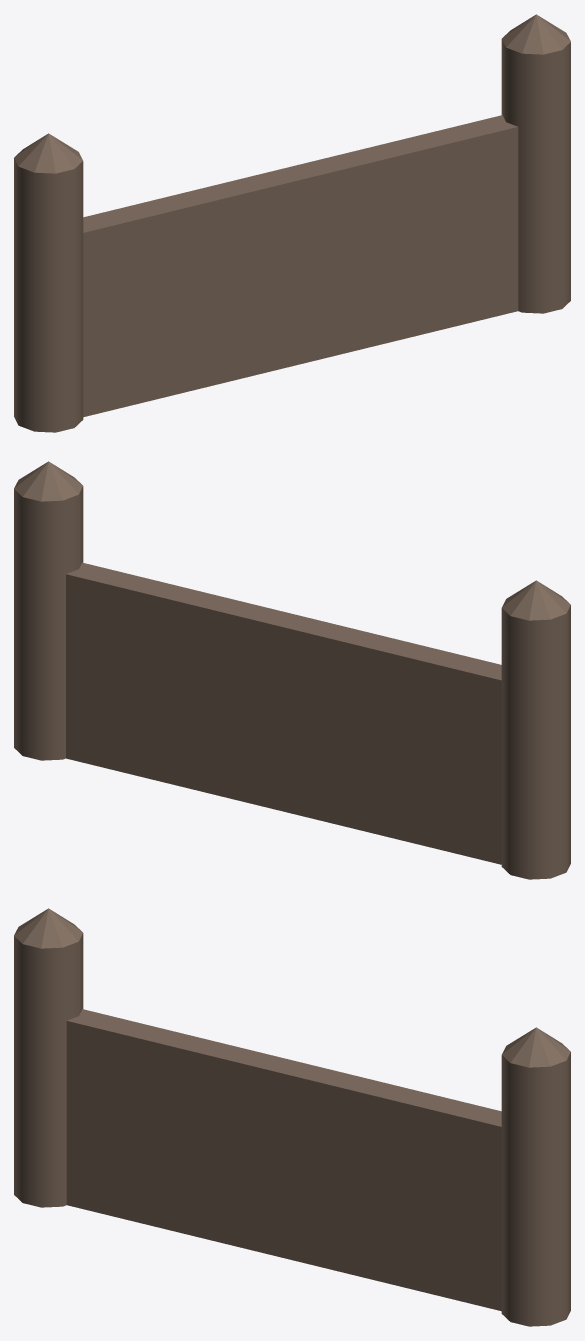
The model's file is concrete wall [1].FBX.
The picture shows the model from 3 angles, top to bottom: view 1: azimuth 30°, elevation 25°; view 2: azimuth 150°, elevation 25°; view 3: azimuth 330°, elevation 25°; orthographic projection.
Parts seen in each view (by area): view 1: Box001; view 2: Box001; view 3: Box001.
Boxes of the visible parts, left/top/right/bottom form: Box001: left=14, top=14, right=570, bottom=432; Box001: left=14, top=461, right=570, bottom=879; Box001: left=14, top=908, right=570, bottom=1326.
Size of the model in its own units: 43.59 by 21.65 by 4.56.
